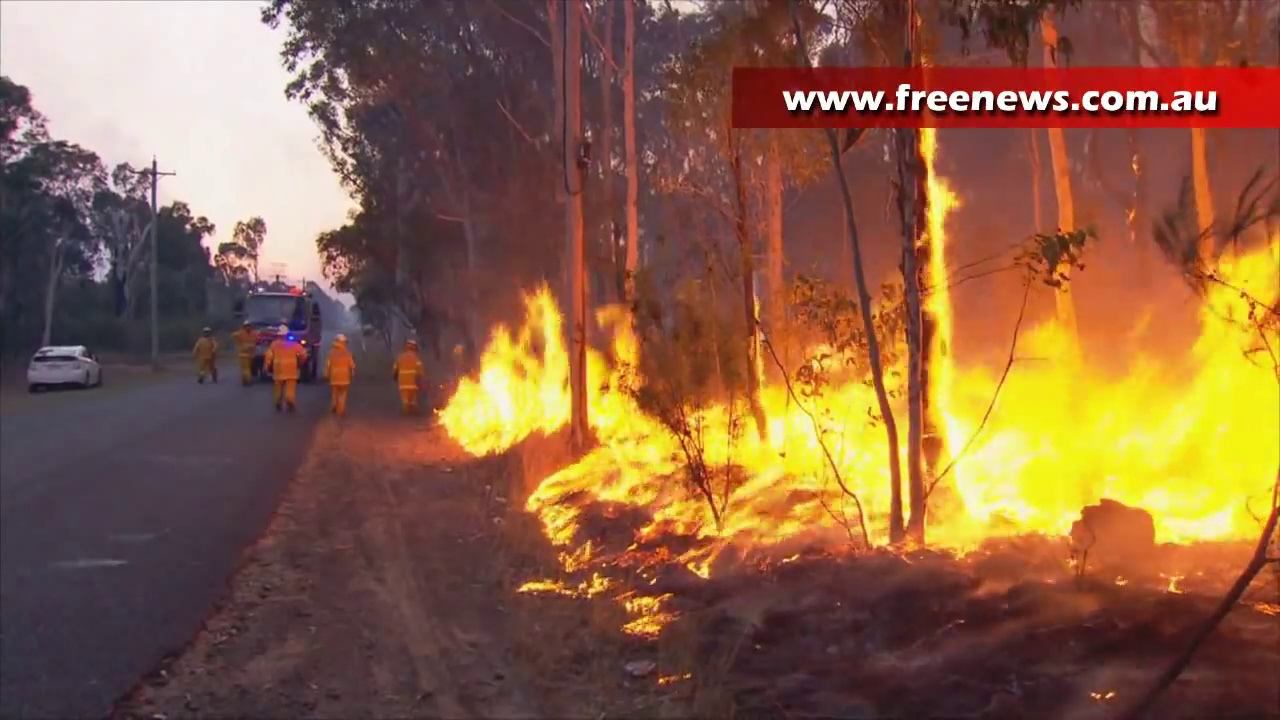fire: (714, 271, 1279, 542), (535, 431, 717, 565), (433, 291, 570, 453), (585, 312, 637, 428), (923, 125, 949, 318), (628, 599, 664, 639)
